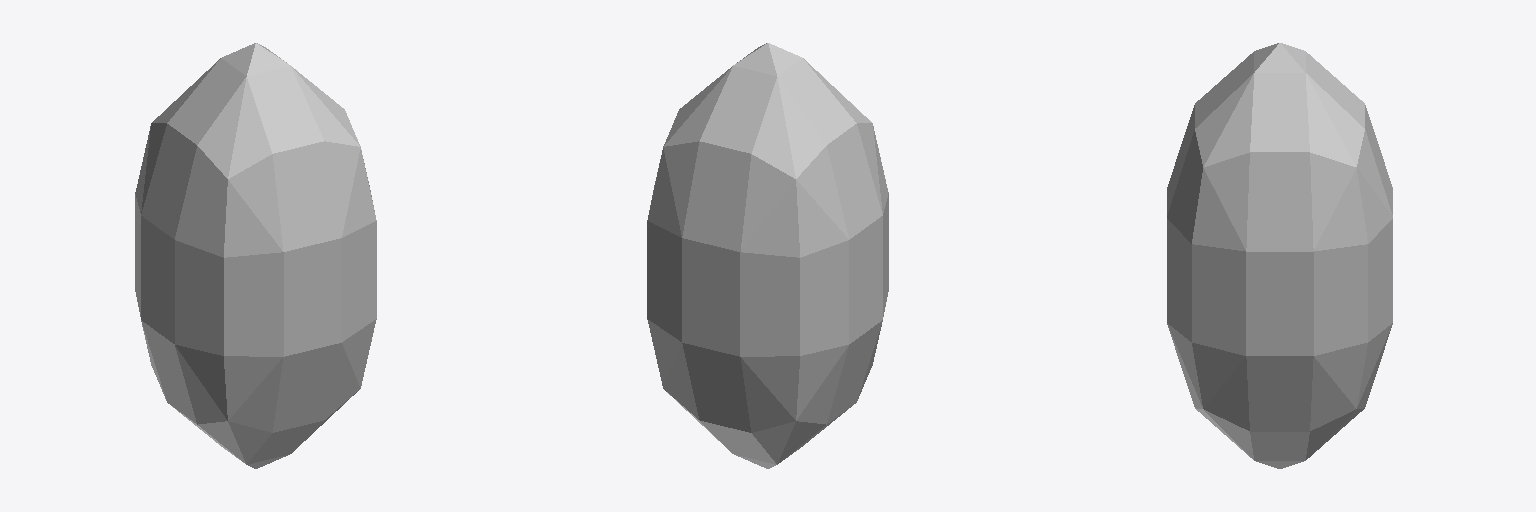
File: teeth_smoothed_80.obj
3 renders of one model, left to right at view 1: azimuth 30°, elevation 25°; view 2: azimuth 150°, elevation 25°; view 3: azimuth 270°, elevation 25°, orthographic.
Bounding box in the file's own units: 0.2242 × 0.4658 × 0.2242.